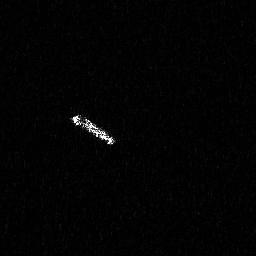ship: (68, 110, 119, 148)
